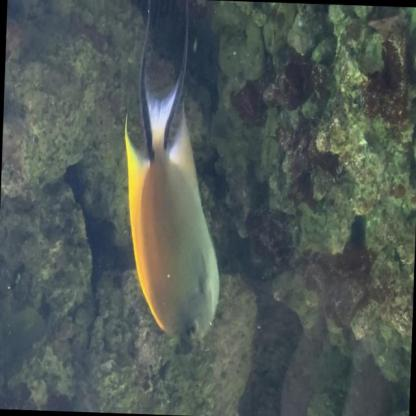fish: (117, 0, 230, 340)
